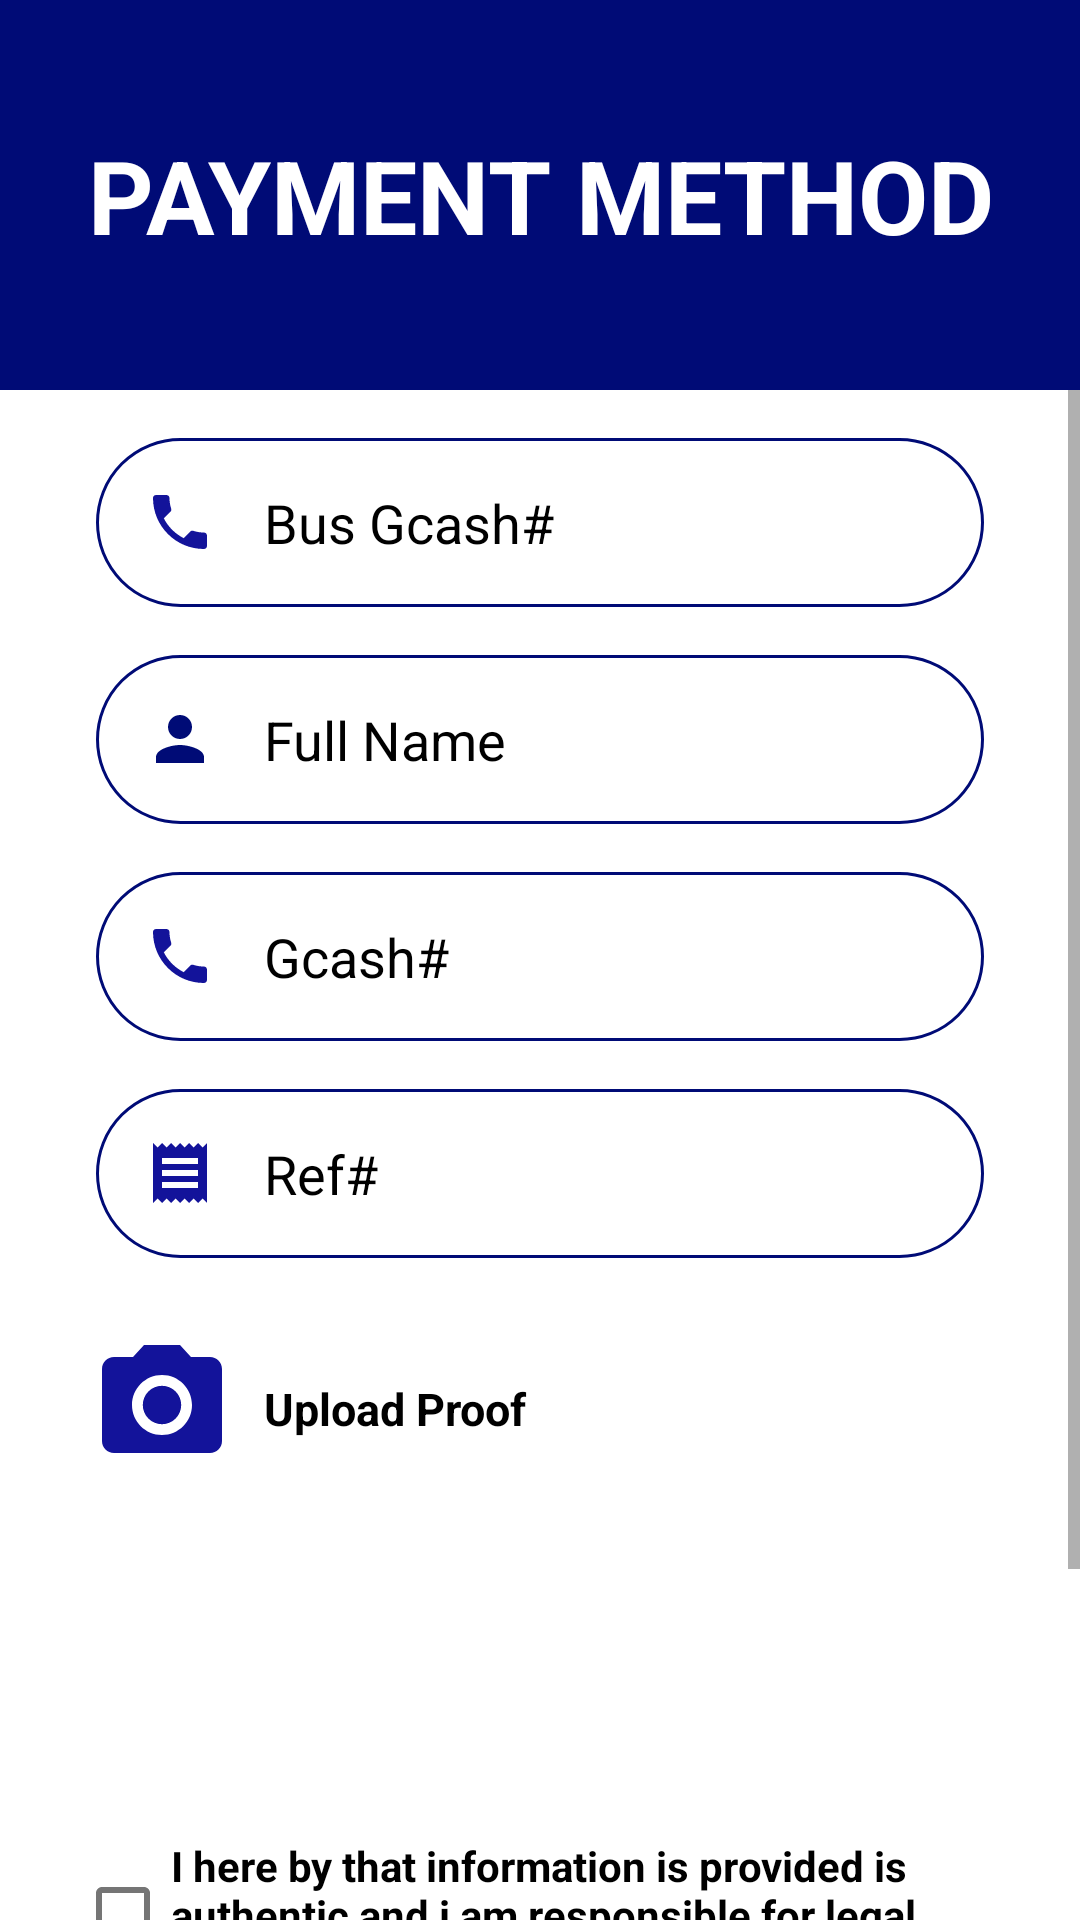

Point at icon controls on the screen. Image size 1080px×1920px, points as (x,y).
photo camera: (162,1399)
